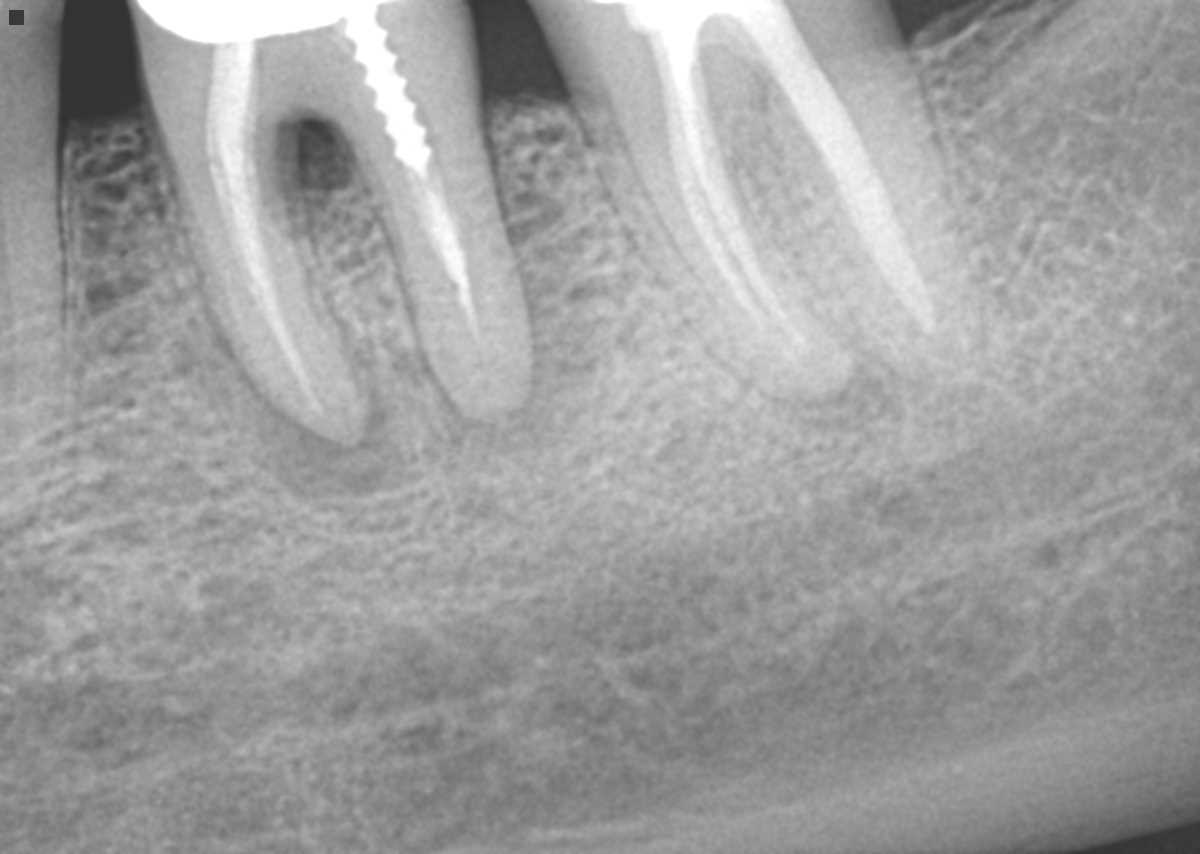Apical Lesion: (418, 203, 600, 494), (208, 347, 411, 510), (789, 349, 895, 436)
Distal Root: (766, 32, 988, 370), (357, 108, 531, 415)
Main Root: (0, 123, 67, 536)
Mesial Root: (579, 77, 846, 400), (164, 142, 363, 448)
Root Canal Filling: (734, 1, 940, 335), (654, 27, 806, 347), (203, 44, 330, 424), (399, 158, 482, 343)
